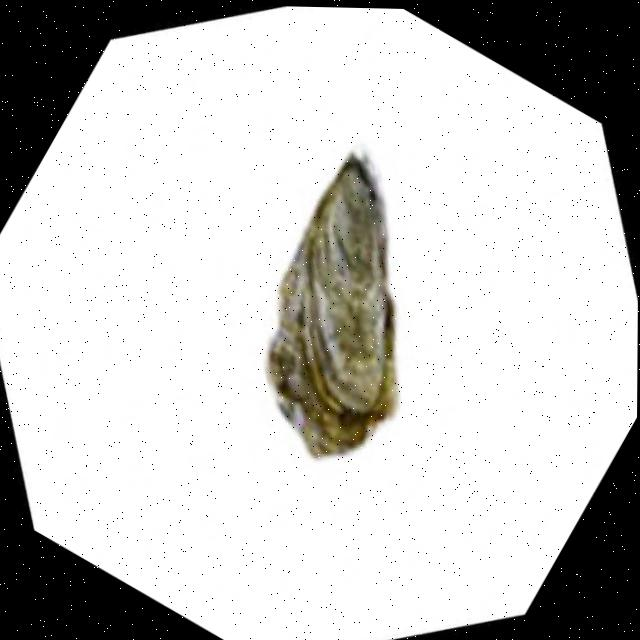Oyster-Closed: (264, 145, 399, 462)
